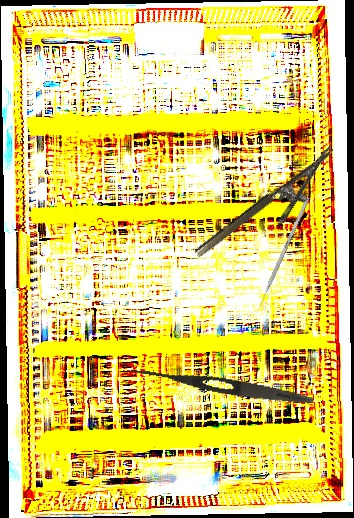Dressing Forceps: (129, 363, 315, 409)
Needle Holder: (192, 146, 351, 276)
Pusher: (254, 196, 310, 316)
